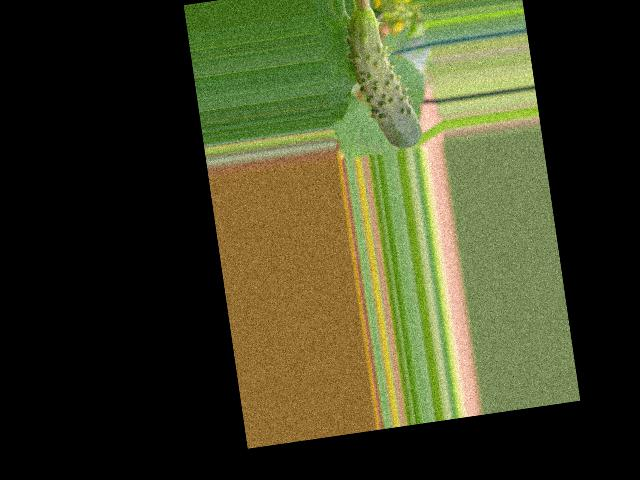cucumber: (341, 3, 423, 155)
